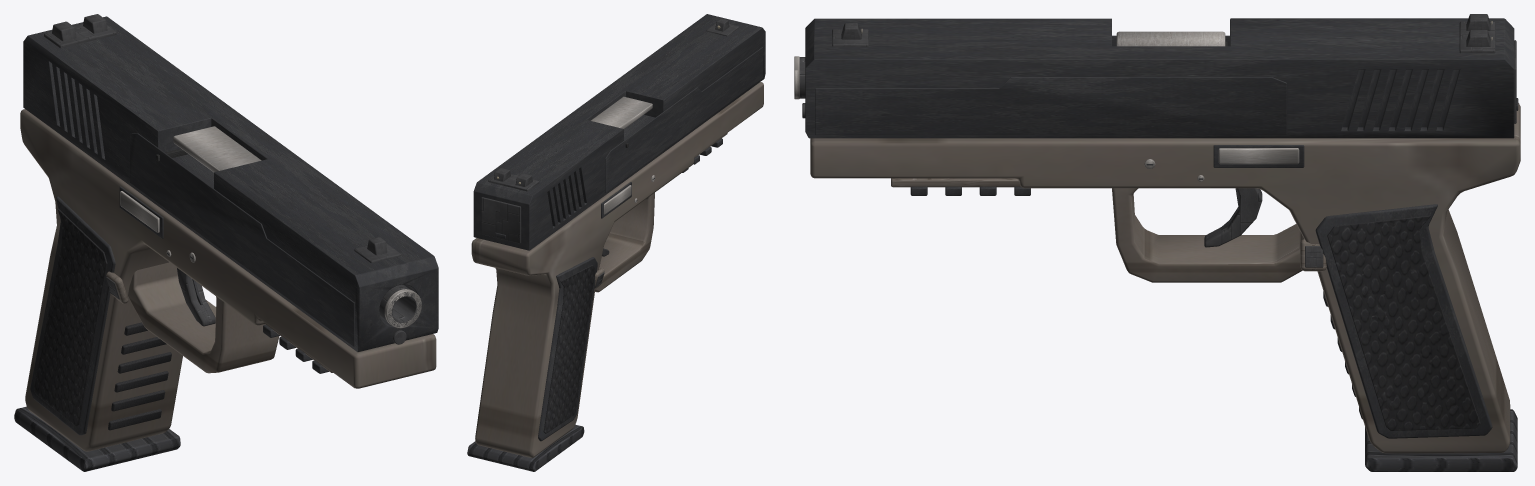
Rendered from SM_TunaWeapon_Pistol_Standard.fbx.
3 renders of one model, left to right at view 1: azimuth 30°, elevation 25°; view 2: azimuth 150°, elevation 25°; view 3: azimuth 270°, elevation 25°, orthographic. The views are drawn at different scales.
Parts seen in each view (by area): view 1: SM_TunaWeapon_Pistol_Standard; view 2: SM_TunaWeapon_Pistol_Standard; view 3: SM_TunaWeapon_Pistol_Standard.
Part boxes in pixels (x1,y1,x2,y2): SM_TunaWeapon_Pistol_Standard: (14,14,438,471); SM_TunaWeapon_Pistol_Standard: (467,14,765,471); SM_TunaWeapon_Pistol_Standard: (794,14,1520,471).
Size of what is drawn, in the model's own units: 4.5 by 28 by 18.
